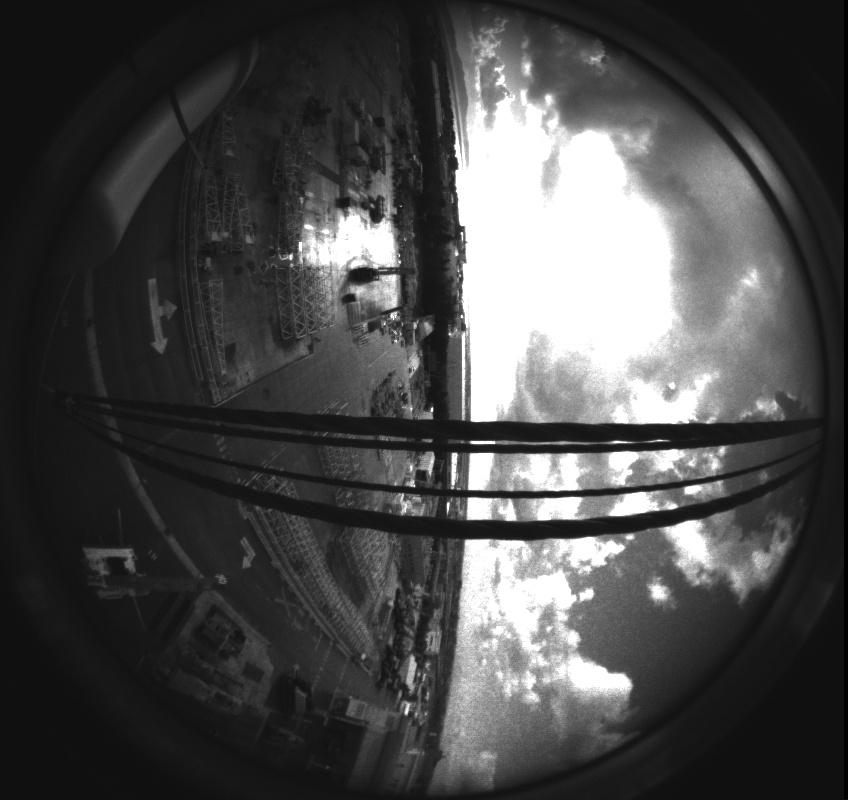rope: (4, 372, 846, 548)
